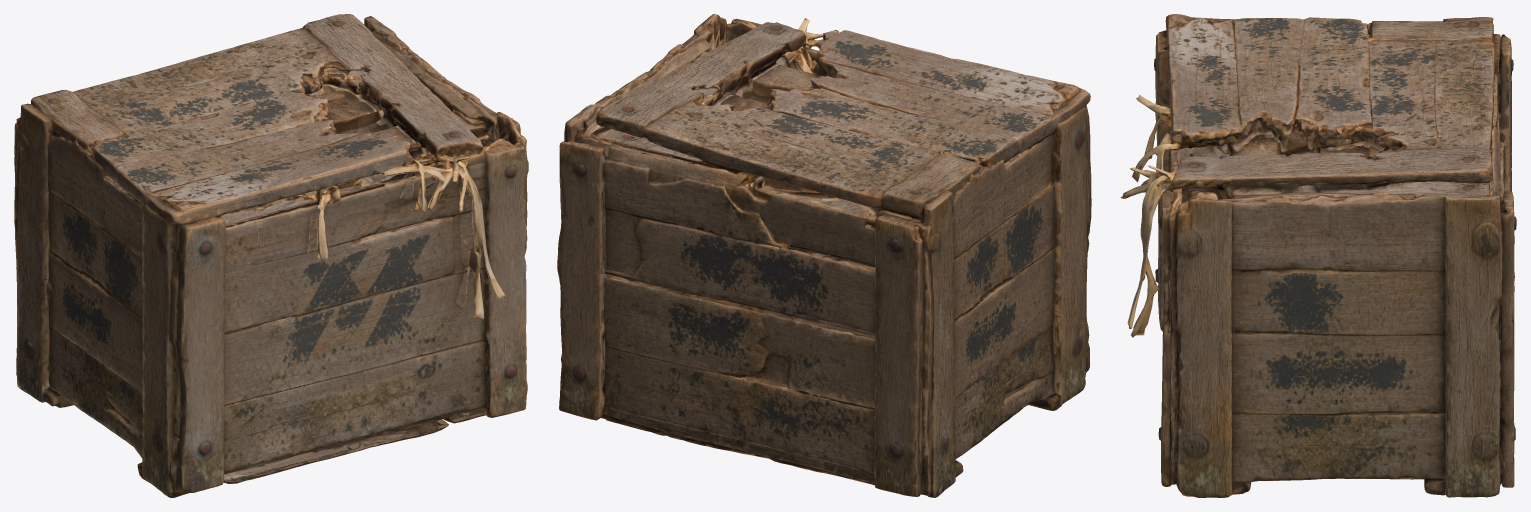
Rendered from WoodenCrate.fbx.
3 views of the same model, side by side, from view 1: azimuth 30°, elevation 25°; view 2: azimuth 150°, elevation 25°; view 3: azimuth 270°, elevation 25° (orthographic). The views are drawn at different scales.
Visible parts, largest first — view 1: texture_mapping; view 2: texture_mapping; view 3: texture_mapping.
Boxes of the visible parts, x1,y1,x2,y2 form: texture_mapping: [14, 14, 528, 497]; texture_mapping: [557, 14, 1091, 497]; texture_mapping: [1120, 14, 1516, 497].
Bounding box in the file's own units: 1 × 0.8959 × 0.7922.
1 material, 1 textured.
